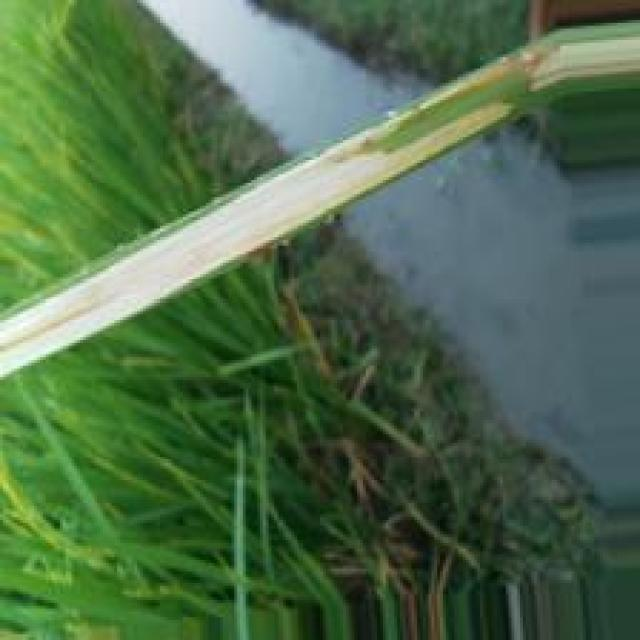Rice_Hispa: (0, 32, 640, 379)
